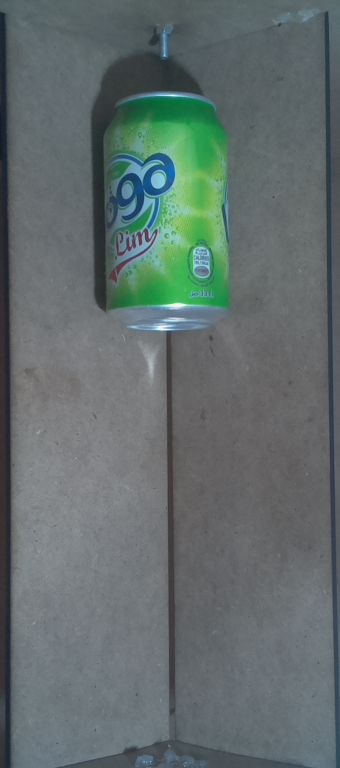Canette: (94, 82, 244, 346)
